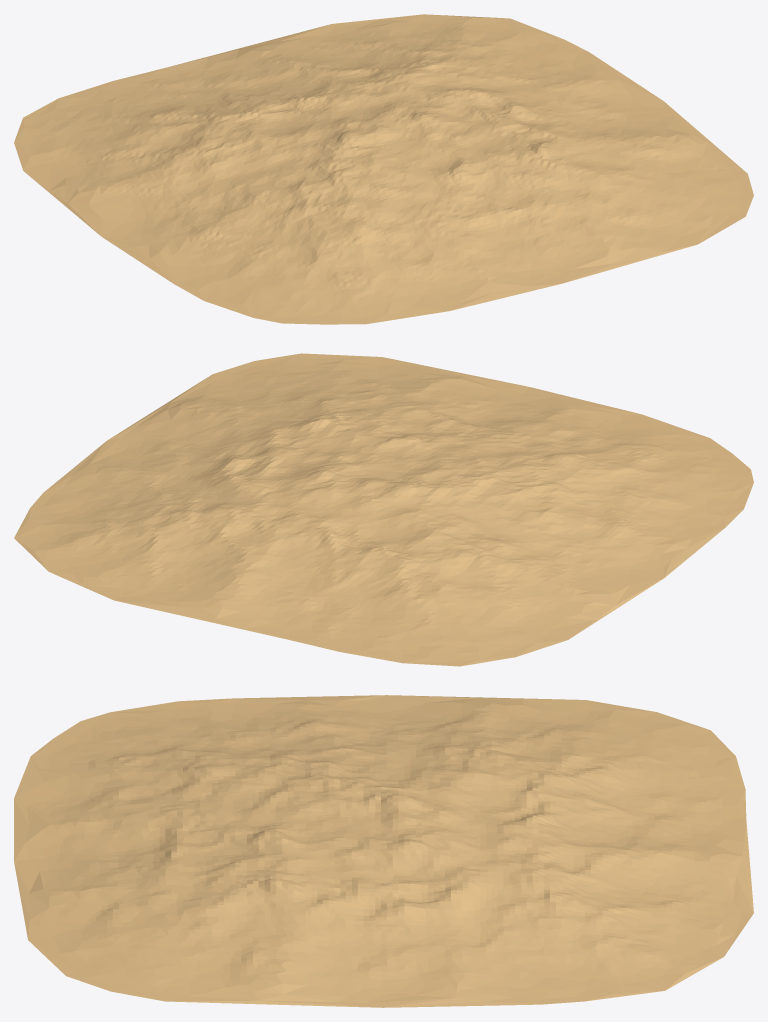
The model's file is MT_Island_H_c_03.fbx.
3 renders of one model, top to bottom at view 1: azimuth 30°, elevation 25°; view 2: azimuth 150°, elevation 25°; view 3: azimuth 270°, elevation 25°, orthographic. The views are drawn at different scales.
Parts seen in each view (by area): view 1: MT_Island_H_c_03; view 2: MT_Island_H_c_03; view 3: MT_Island_H_c_03.
Boxes of the visible parts, bbox=[...] form: MT_Island_H_c_03: bbox=[14, 14, 753, 324]; MT_Island_H_c_03: bbox=[14, 353, 753, 666]; MT_Island_H_c_03: bbox=[14, 695, 753, 1007].
Size of the model in its own units: 50000 by 2967 by 50000.
